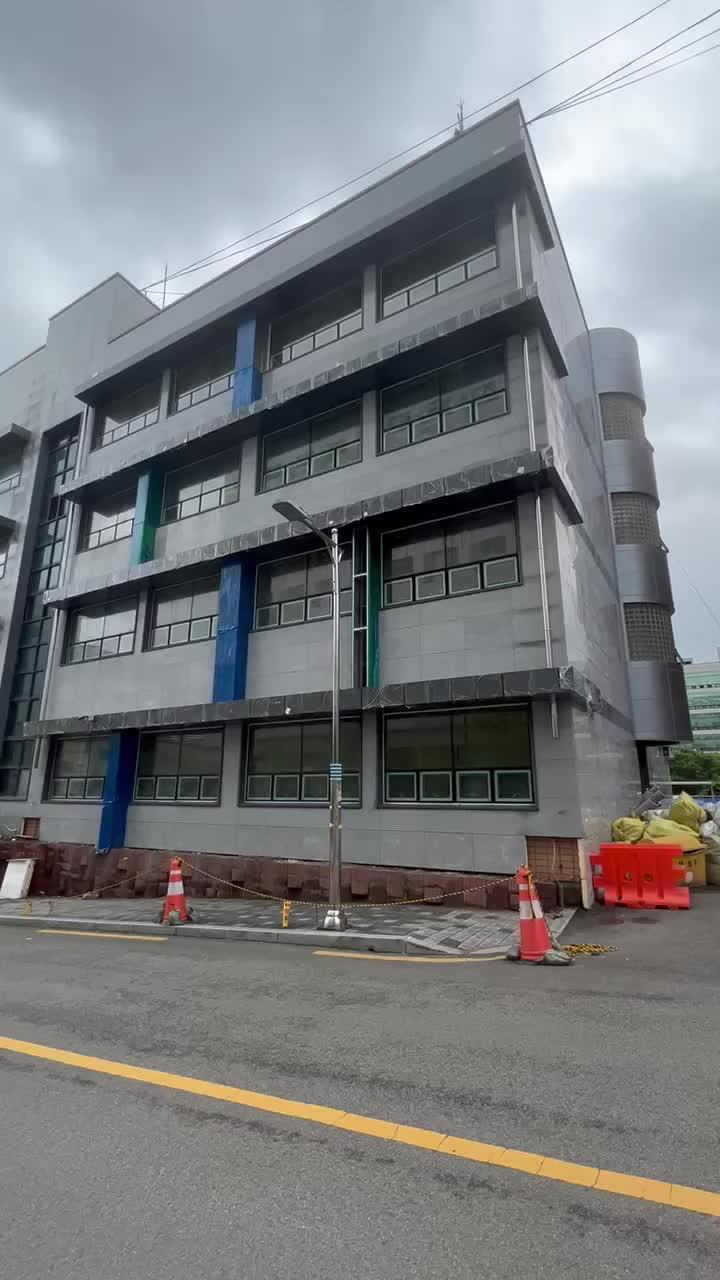building: (68, 166, 620, 806)
